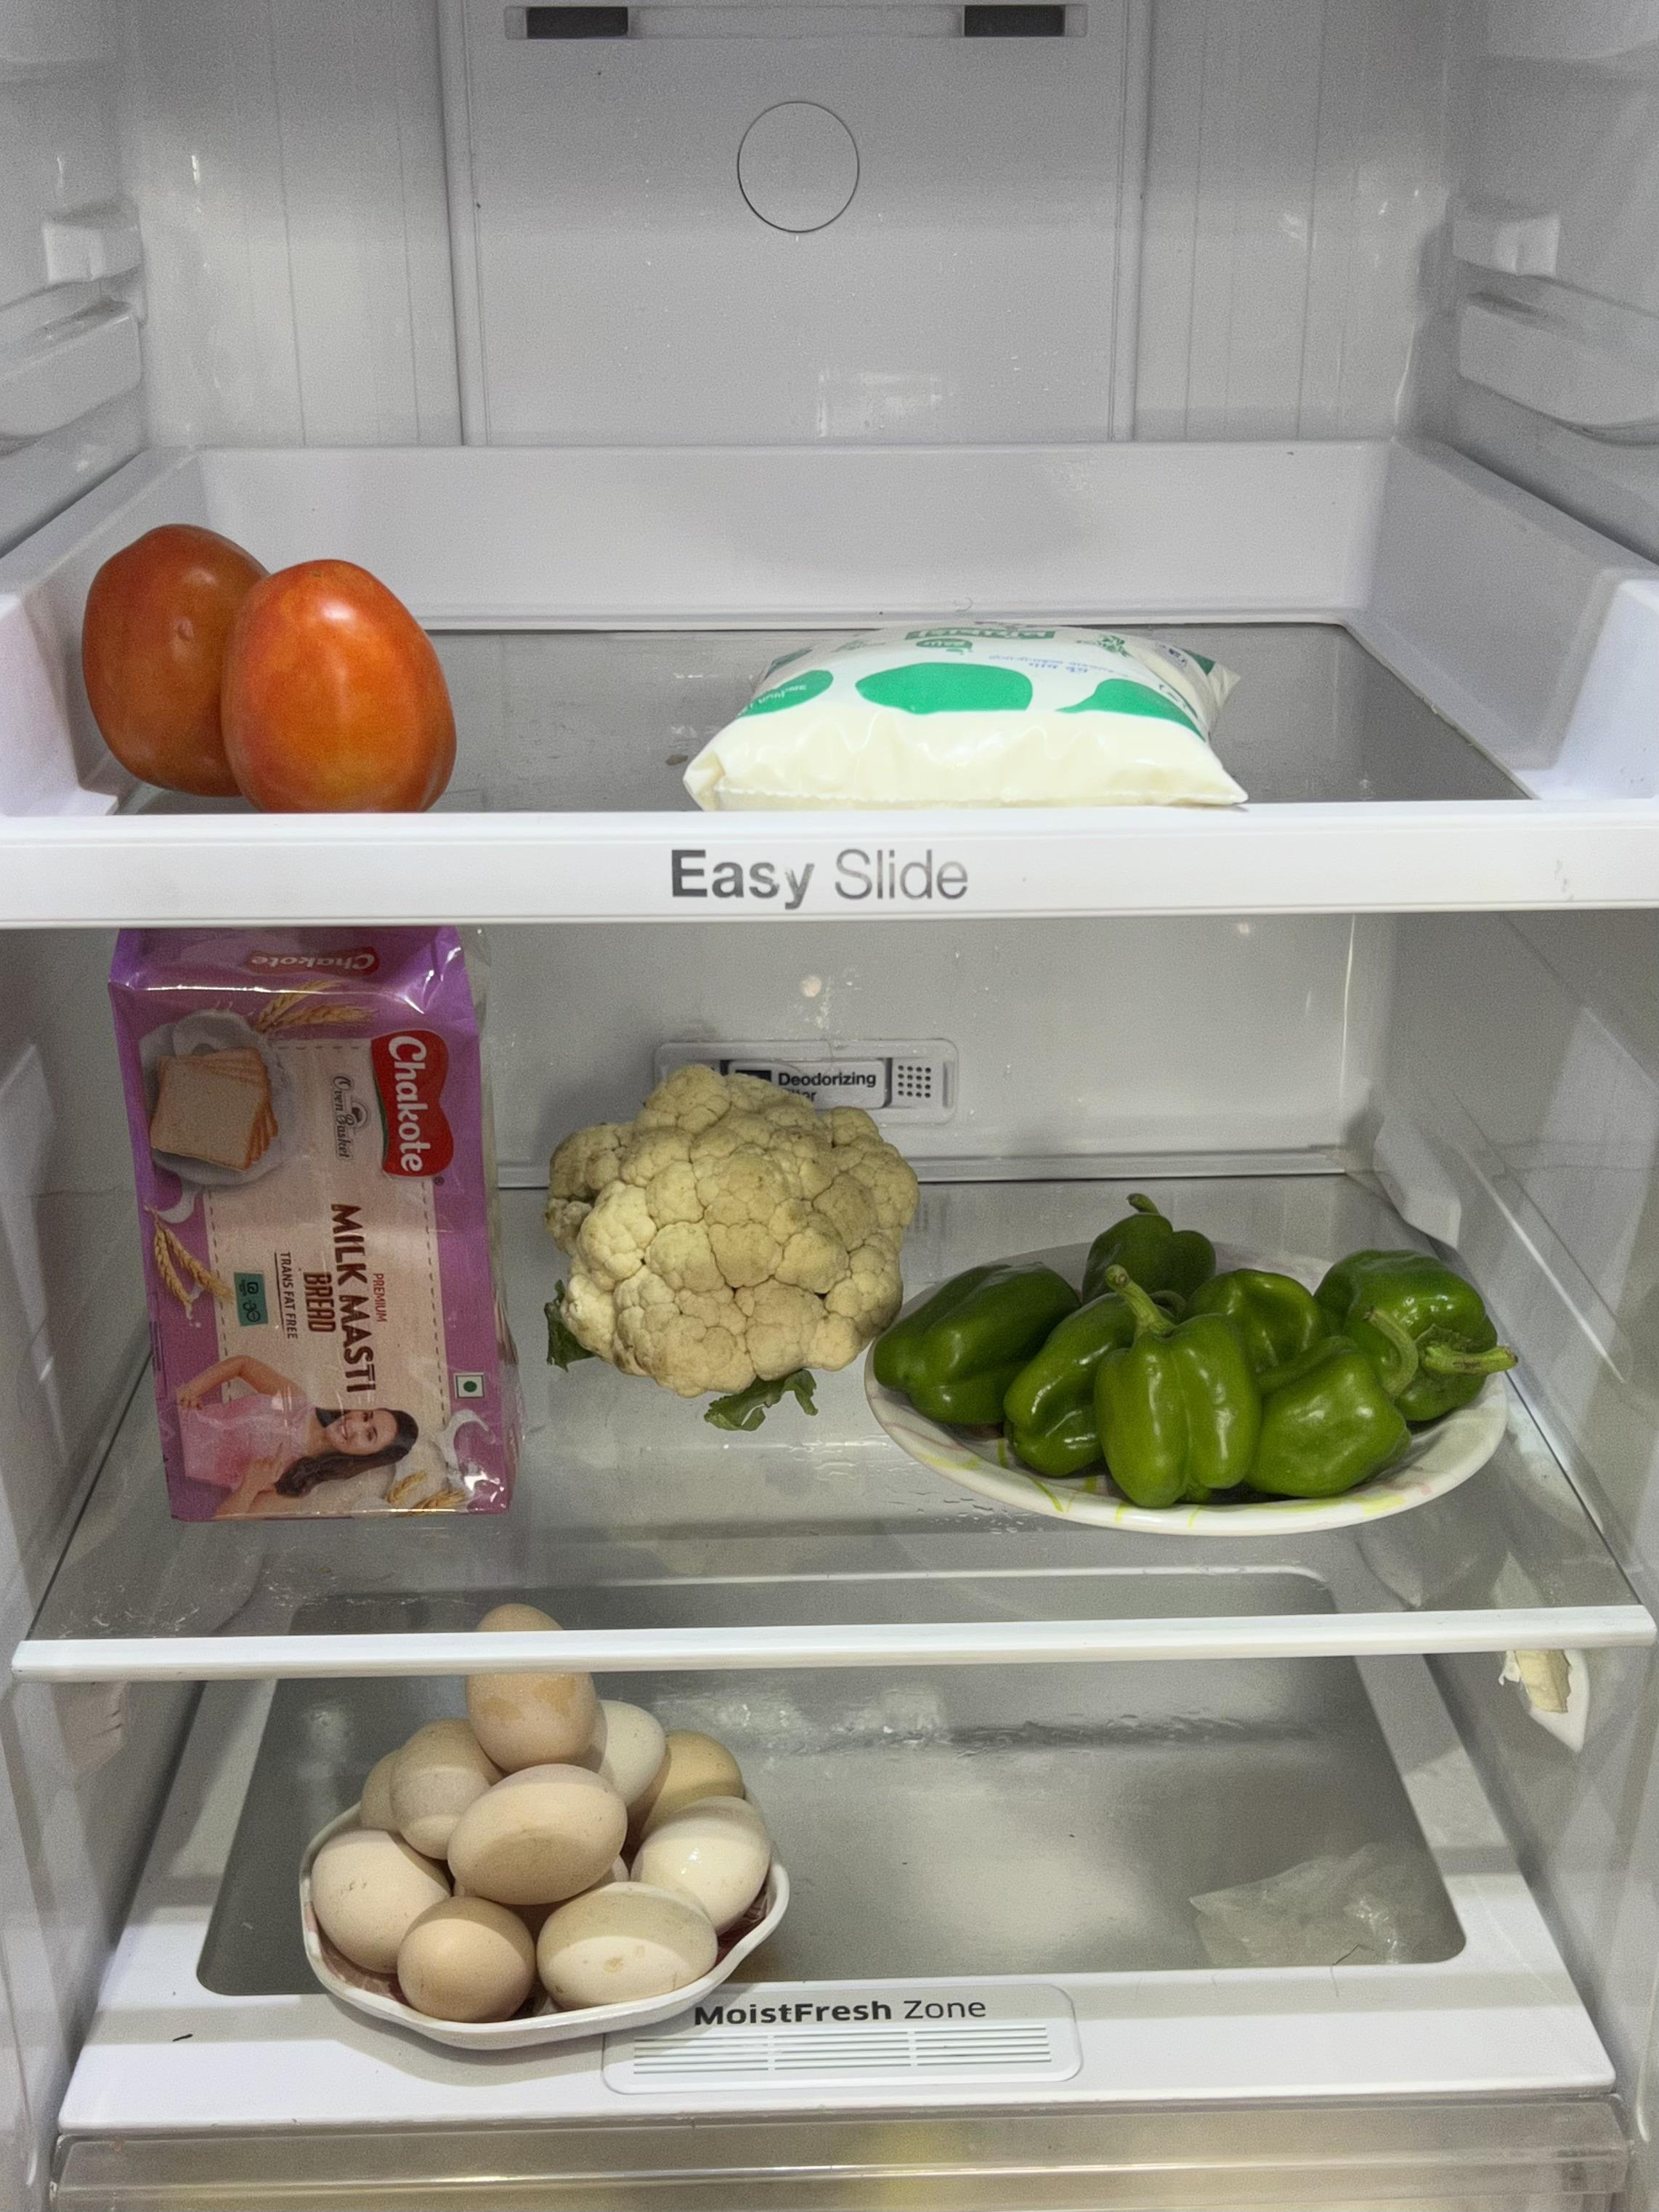bread: (98, 913, 523, 1517)
capsicum: (875, 1201, 1535, 1515)
cauliflower: (540, 1062, 911, 1393)
egg: (305, 1666, 782, 2027)
milk: (683, 615, 1262, 812)
tomato: (71, 509, 474, 816)
